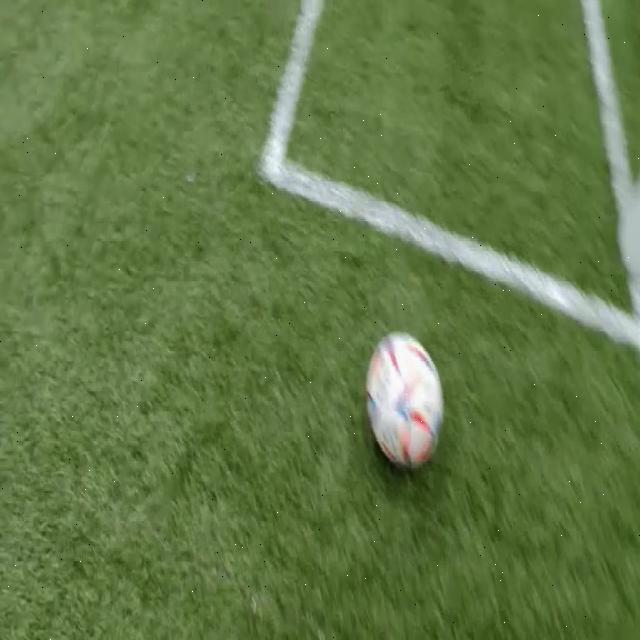ball: (366, 332, 443, 468)
